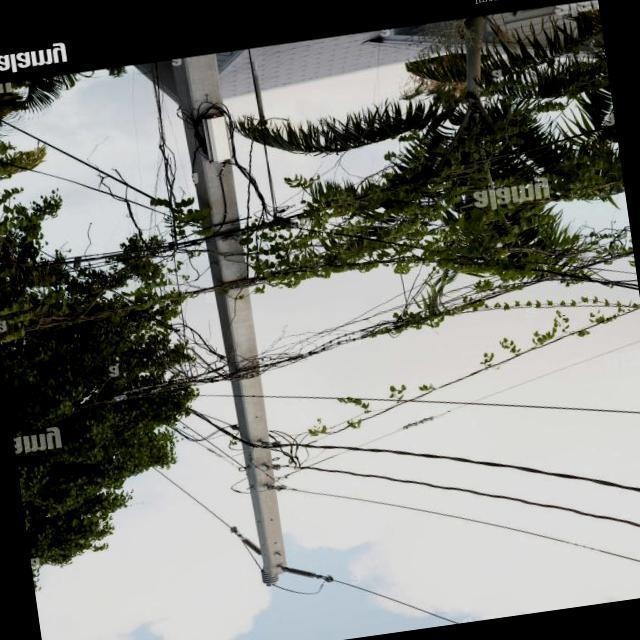critical vegetation: (168, 196, 332, 594), (296, 241, 634, 372)
